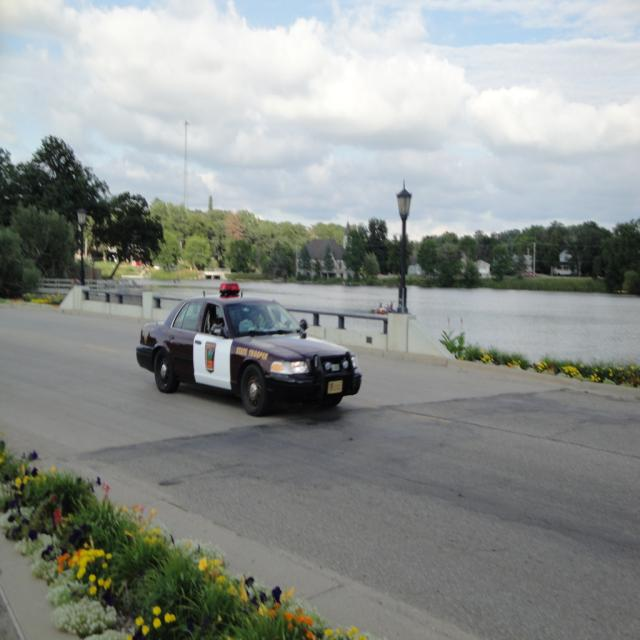car: (135, 284, 361, 414)
